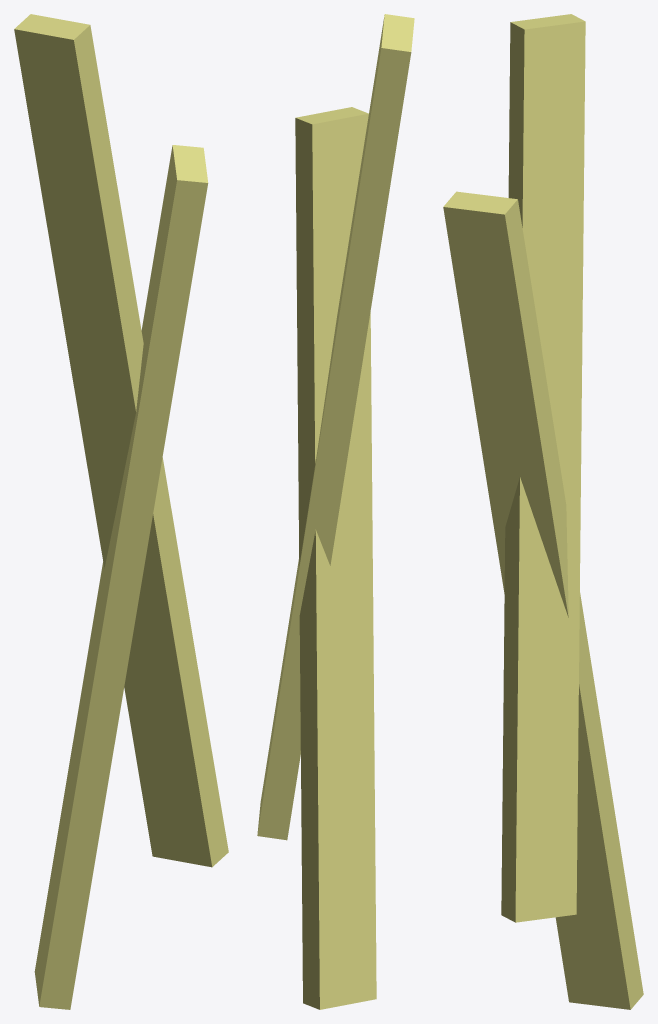
The model's file is pwen.fbx.
3 views of the same model, side by side, from view 1: azimuth 30°, elevation 25°; view 2: azimuth 150°, elevation 25°; view 3: azimuth 270°, elevation 25° (orthographic). The views are drawn at different scales.
Parts seen in each view (by area): view 1: Cube.098; view 2: Cube.098; view 3: Cube.098.
Boxes of the visible parts, x1,y1,x2,y2 form: Cube.098: (14, 14, 228, 1009); Cube.098: (257, 14, 414, 1009); Cube.098: (443, 14, 643, 1009).
Bounding box in the file's own units: 27.69 × 143 × 26.7.
